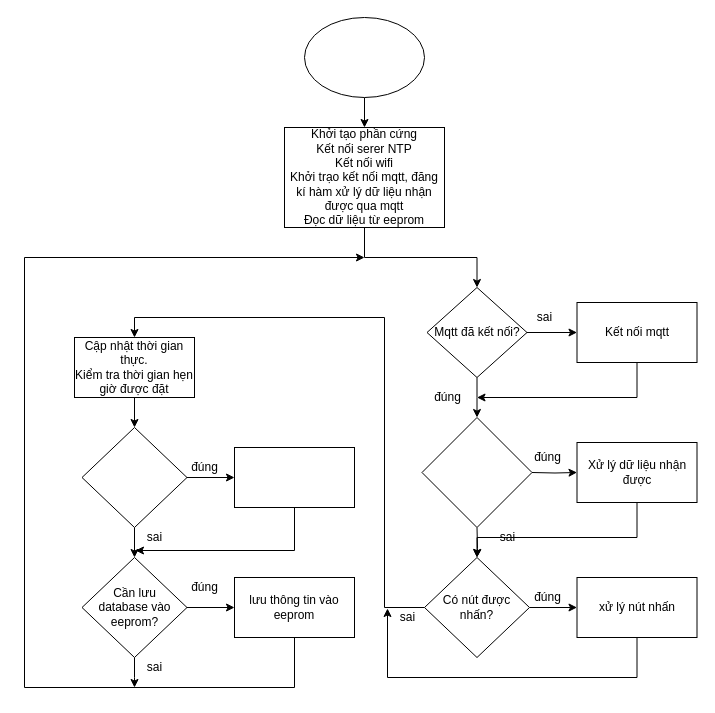
Image size: 715x713. Some labels were removed from this diagram. The shapes that lost their labels are listed below. From the top down, each one's centre as x and y in pixels, then its label:
the point at 364,57: Bắt đầu
the point at 134,477: Đến thời gian đã hẹn?
the point at 294,477: xử lý hẹn giờ
the point at 476,472: Có bản tin từ mqtt?
